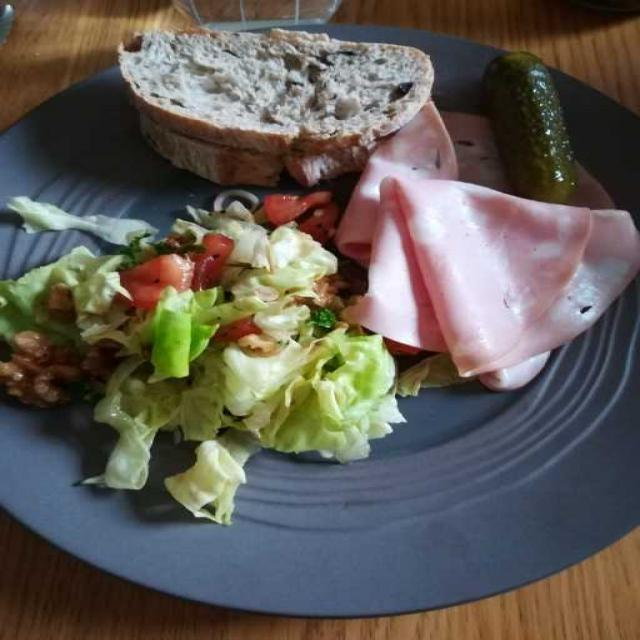bread: (117, 24, 439, 183)
cucumber-pickled: (495, 58, 576, 207)
salad: (24, 200, 401, 524)
tomato: (138, 231, 234, 319)
